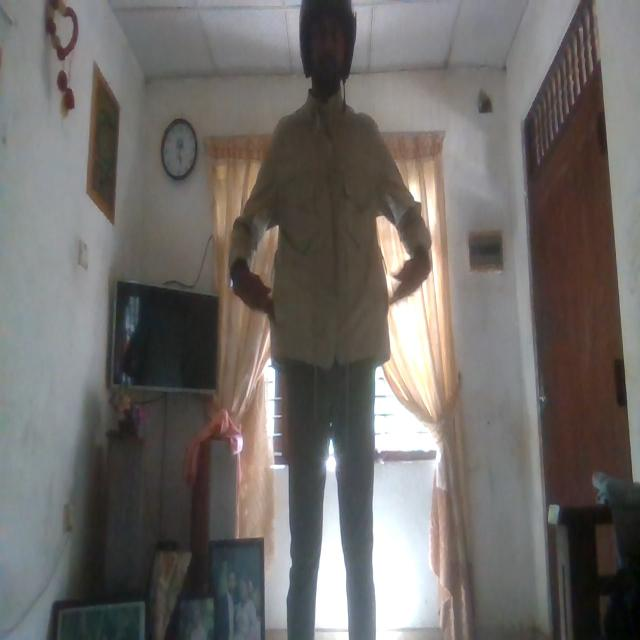Helmet_Wearer: (289, 0, 366, 108)
Jacket_Wearer: (232, 92, 434, 384)
Person: (230, 3, 431, 640)
